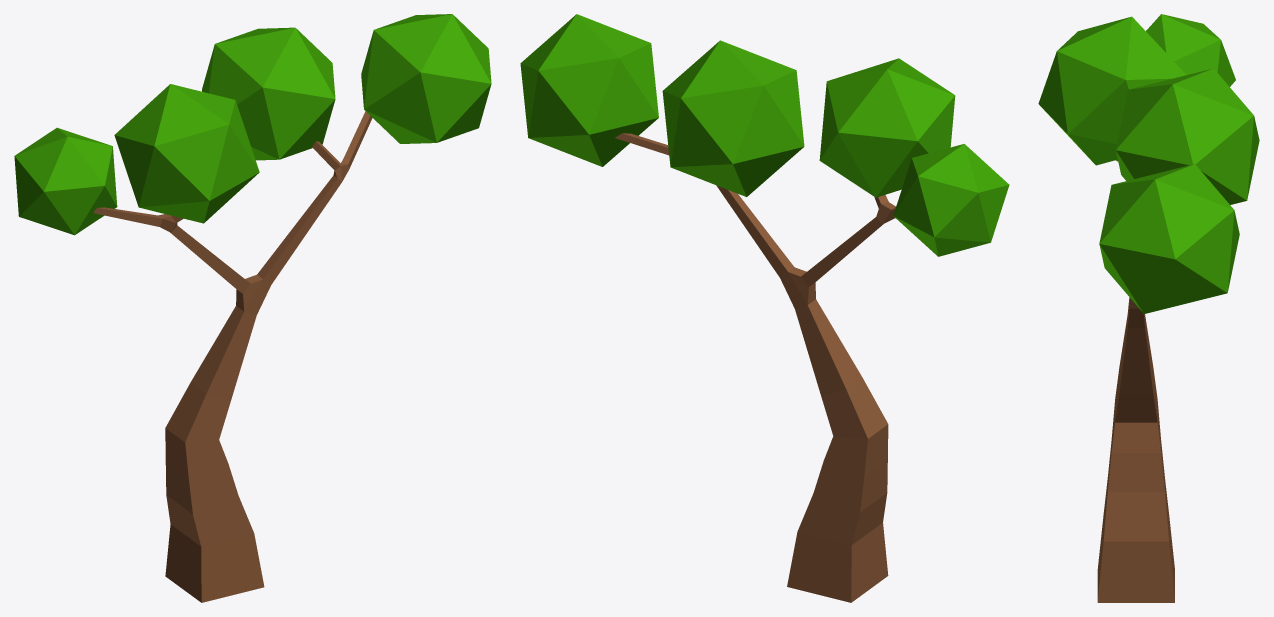
Rendered from medium-tree-1.gltf.
3 views of the same model, side by side, from view 1: azimuth 30°, elevation 25°; view 2: azimuth 150°, elevation 25°; view 3: azimuth 270°, elevation 25° (orthographic). The views are drawn at different scales.
Visible parts, largest first — view 1: Base, Leaves2, Leaves4, Leaves3, Leaves1; view 2: Base, Leaves3, Leaves4, Leaves2, Leaves1; view 3: Leaves4, Base, Leaves3, Leaves2, Leaves1.
Boxes of the visible parts, bbox=[...] form: Base: bbox=[93, 111, 372, 602]; Leaves2: bbox=[114, 84, 259, 223]; Leaves4: bbox=[361, 14, 491, 143]; Leaves3: bbox=[202, 27, 335, 160]; Leaves1: bbox=[14, 127, 117, 235]; Base: bbox=[615, 133, 896, 602]; Leaves3: bbox=[662, 40, 804, 196]; Leaves4: bbox=[520, 14, 658, 166]; Leaves2: bbox=[819, 58, 955, 197]; Leaves1: bbox=[893, 144, 1009, 256]; Leaves4: bbox=[1099, 164, 1239, 313]; Base: bbox=[1097, 159, 1174, 602]; Leaves3: bbox=[1115, 68, 1259, 204]; Leaves2: bbox=[1038, 16, 1186, 165]; Leaves1: bbox=[1146, 14, 1235, 86].
Size of the model in its own units: 4.69 by 4.99 by 1.81.
